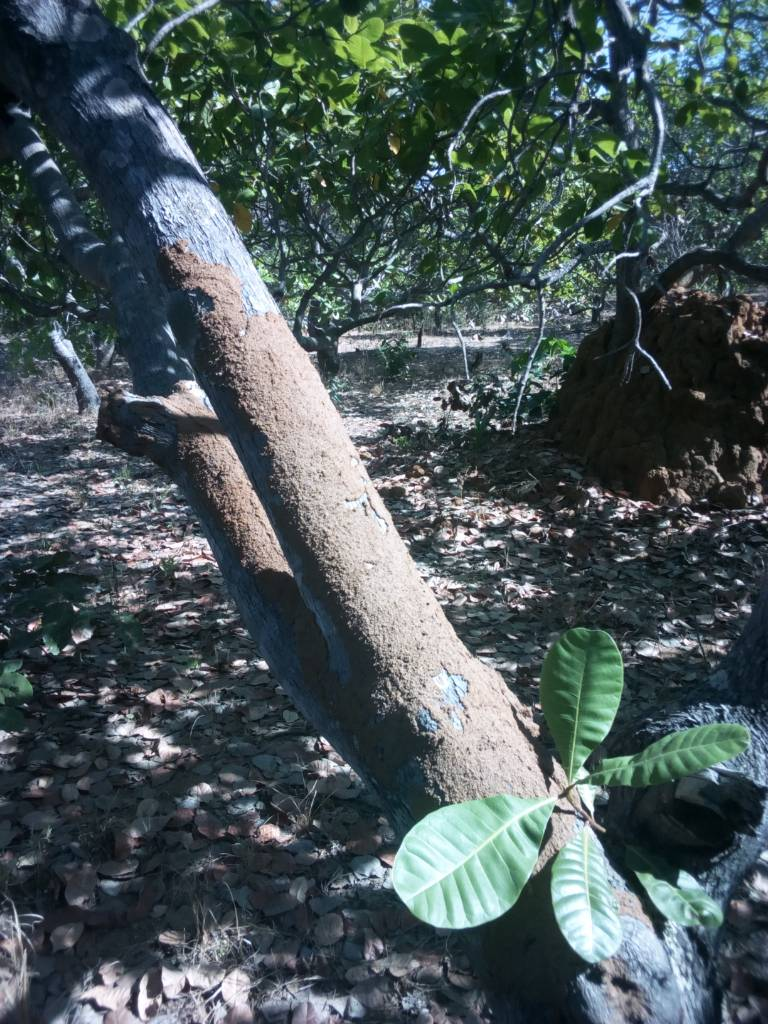Termites: (196, 277, 511, 782)
